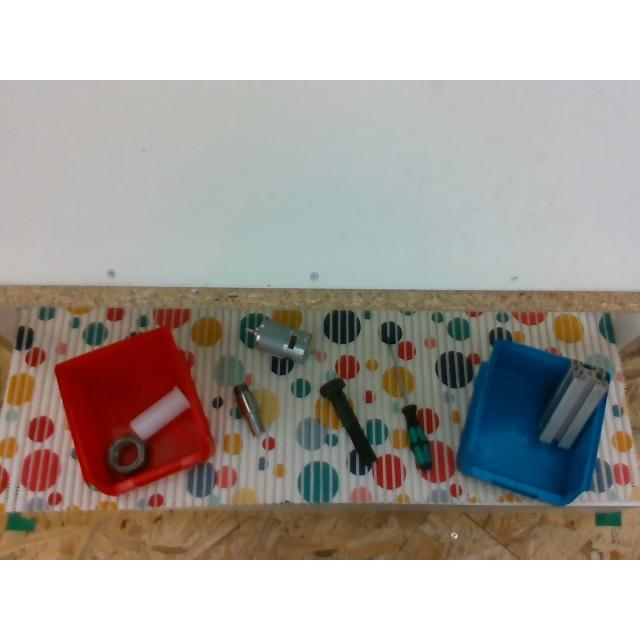Axis2: (230, 383, 264, 437)
M20_100: (319, 377, 376, 468)
M30: (106, 434, 146, 474)
Motor2: (239, 314, 311, 362)
S40_40_G: (538, 359, 610, 448)
Screwdriver: (382, 336, 432, 472)
Spacer: (130, 387, 190, 439)
container_box_blue: (457, 338, 609, 504)
container_box_red: (55, 326, 213, 494)
